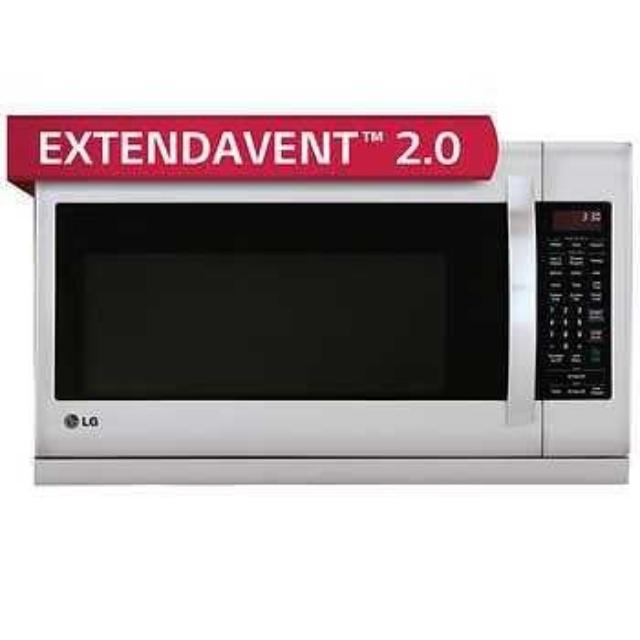Oven: (28, 120, 636, 490)
